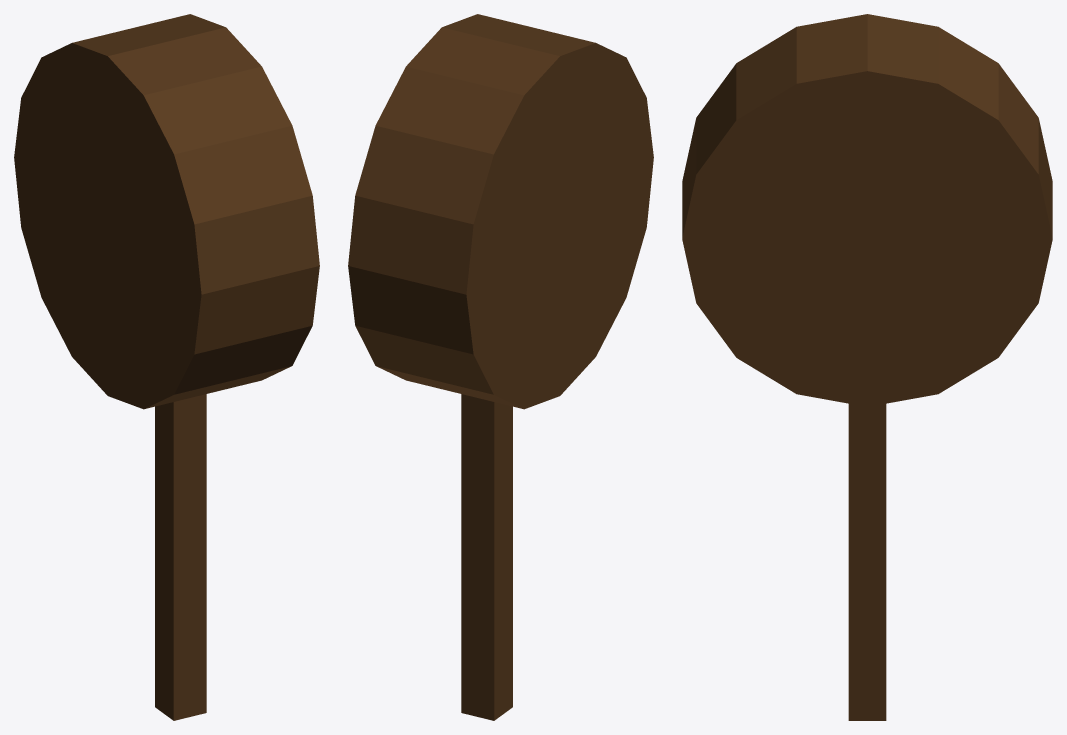
File: archery-target.lod2.glb
The picture shows the model from 3 angles, left to right: view 1: azimuth 30°, elevation 25°; view 2: azimuth 150°, elevation 25°; view 3: azimuth 270°, elevation 25°; orthographic projection.
Visible parts, largest first — view 1: Cube.004_Material.008_0; view 2: Cube.004_Material.008_0; view 3: Cube.004_Material.008_0.
Boxes of the visible parts, x1,y1,x2,y2 form: Cube.004_Material.008_0: (14,14,319,720); Cube.004_Material.008_0: (348,14,653,720); Cube.004_Material.008_0: (682,14,1052,720).
Bounding box in the file's own units: 0.3136 × 1.7 × 0.8601.
